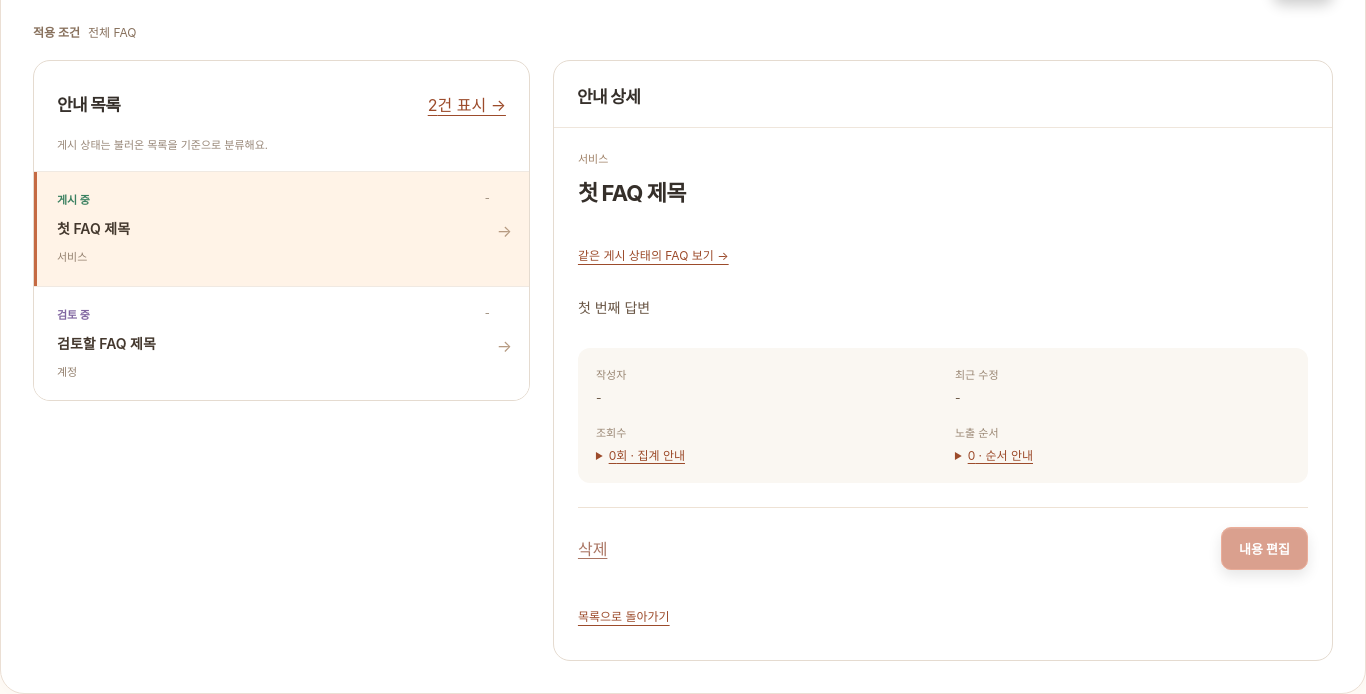
Test: failed FAQ deletion closes confirmation and exposes the error inside the selected detail without retrying
The width and height of the screenshot is (1366, 694).
(page scrolled)
Click the button "삭제" at (593, 548), box [578, 526, 607, 570]
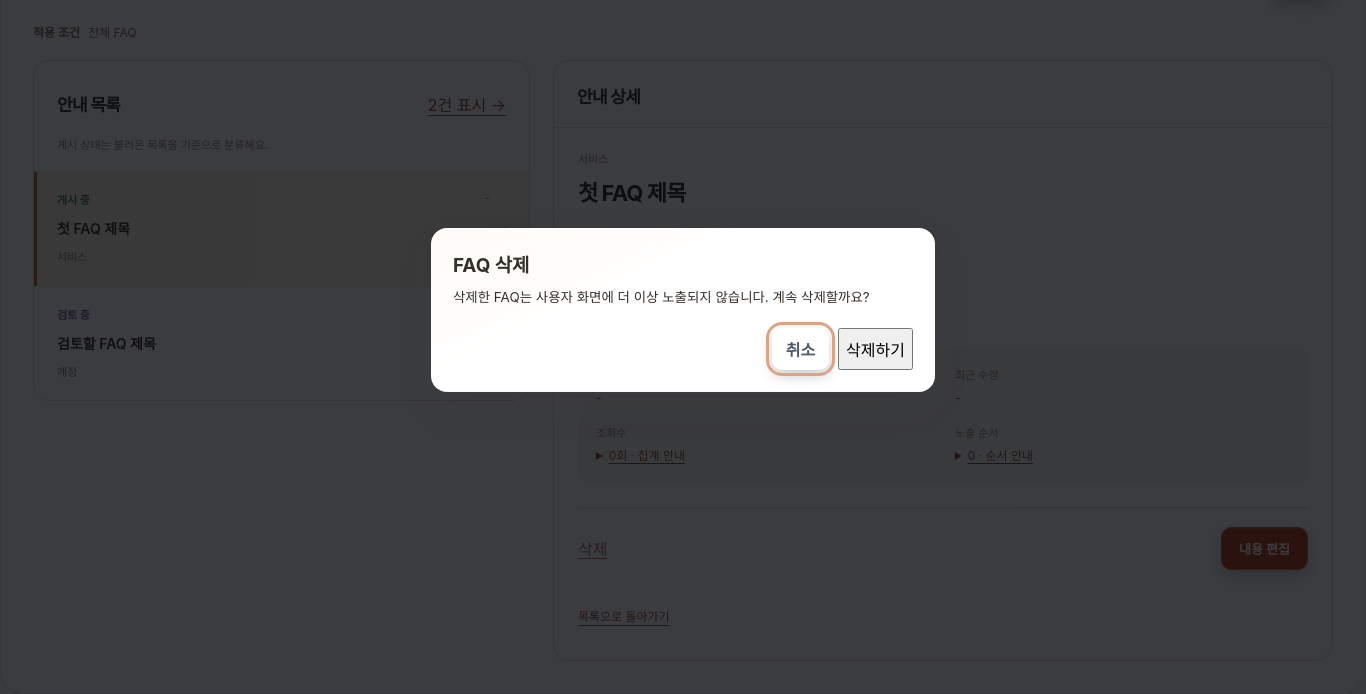
Click the button "삭제하기" at (876, 349), box [838, 328, 913, 370]
(page scrolled)
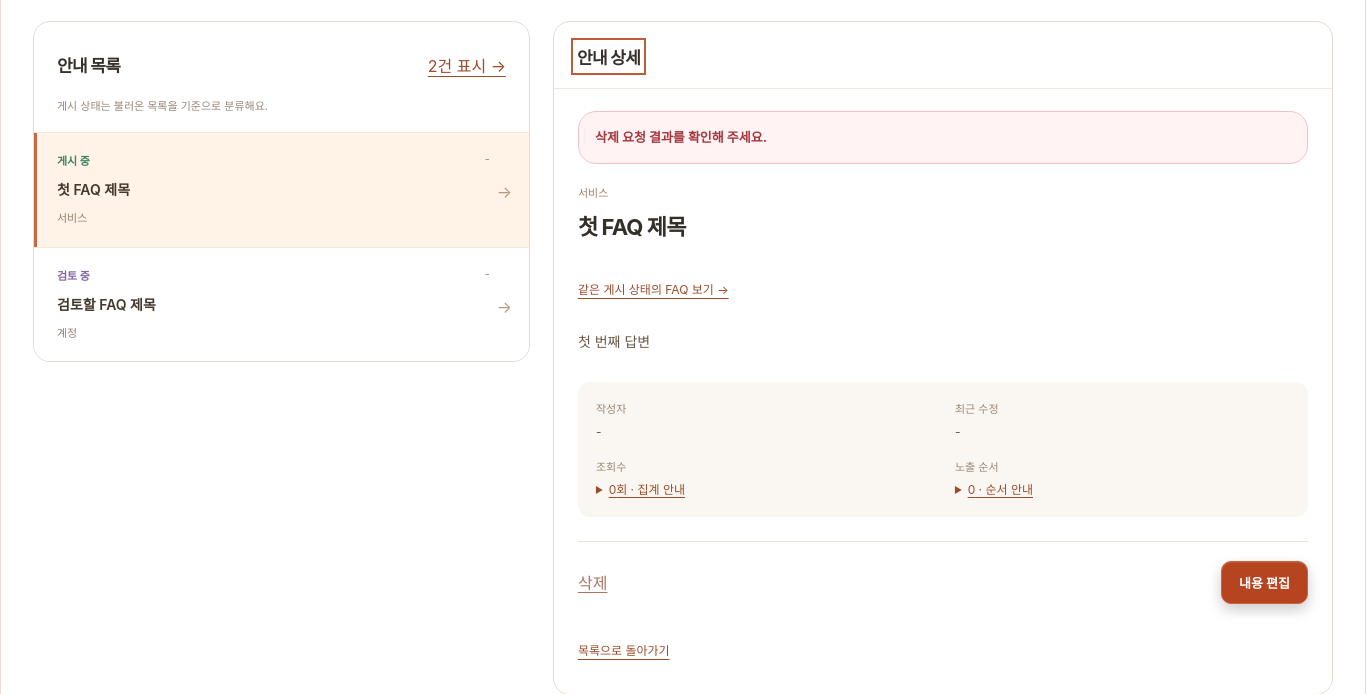
Result: the message reads "삭제 요청 결과를 확인해 주세요." at [595, 129, 767, 145]
Result: the dialog is gone
